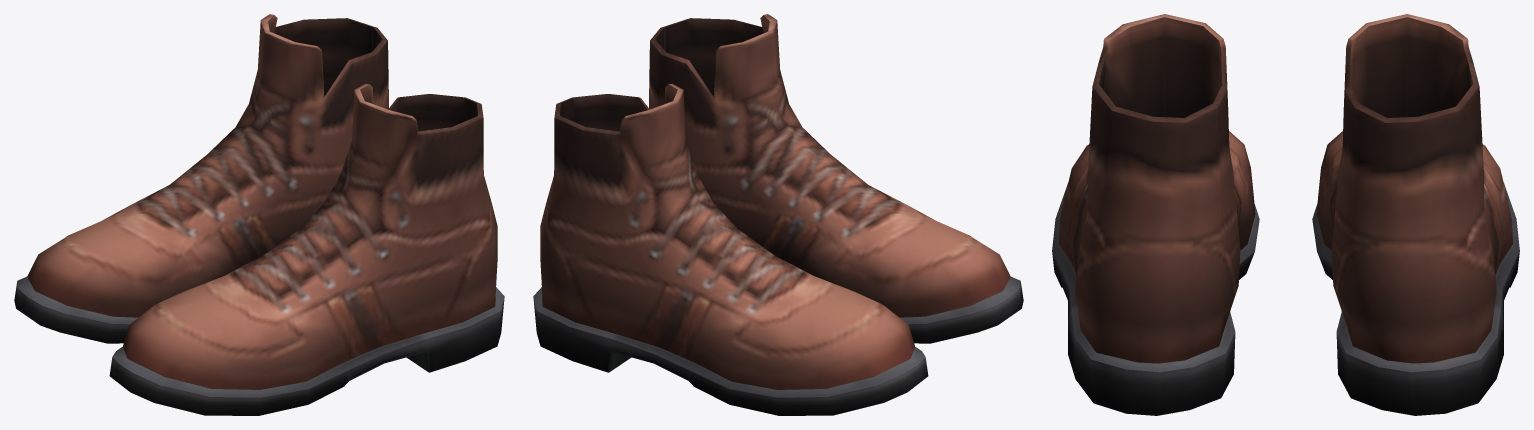
The model's file is ShenMiRenJia_01_xuezi_01.FBX.
3 renders of one model, left to right at view 1: azimuth 30°, elevation 25°; view 2: azimuth 150°, elevation 25°; view 3: azimuth 270°, elevation 25°, orthographic. The views are drawn at different scales.
Parts seen in each view (by area): view 1: PiErSenDeGongYu_junxie_01; view 2: PiErSenDeGongYu_junxie_01; view 3: PiErSenDeGongYu_junxie_01.
Part boxes in pixels (box(x1,y1,x2,y2)): PiErSenDeGongYu_junxie_01: box(14, 14, 504, 415); PiErSenDeGongYu_junxie_01: box(533, 14, 1023, 415); PiErSenDeGongYu_junxie_01: box(1052, 14, 1519, 415).
Bounding box in the file's own units: 102 × 65.11 × 86.04.
